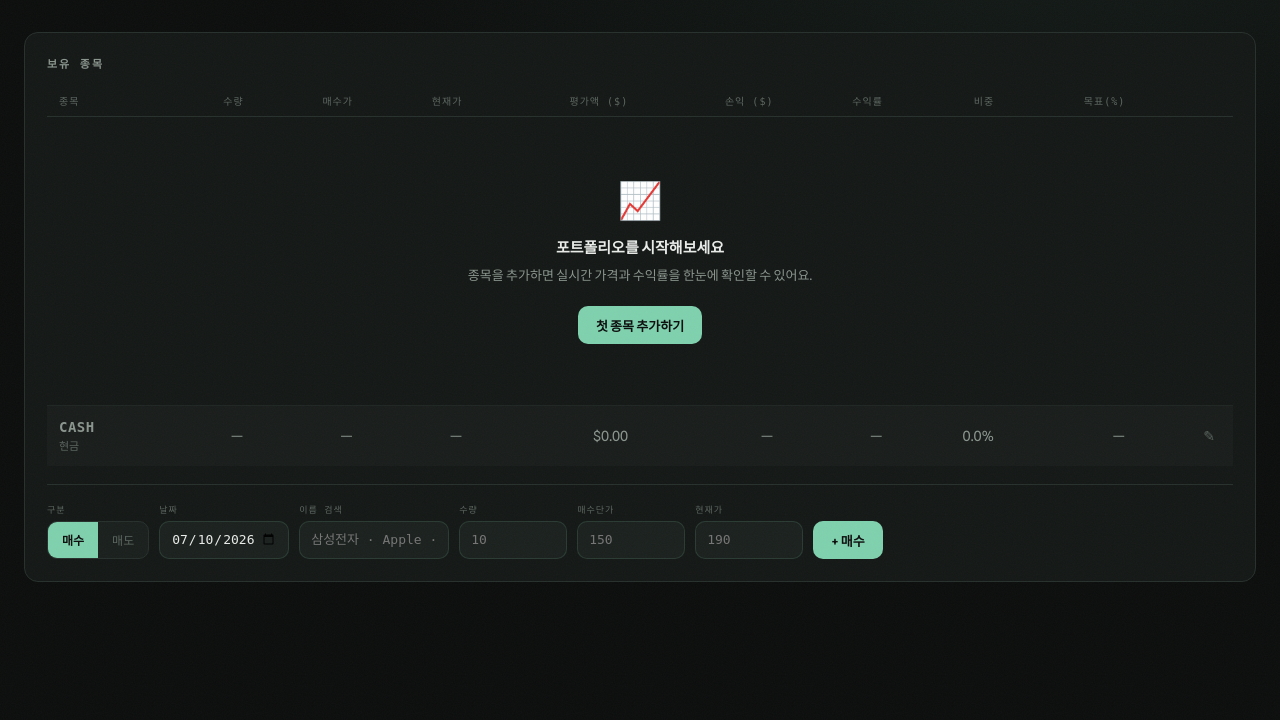
Test case: HoldingsTable › KRW: 드롭다운 선택 시 이름 자동 입력
Type "삼성" into the field with placeholder "삼성전자 · Apple · AAPL · 005930" at (374, 540), box x1=299 y1=521 x2=449 y2=559
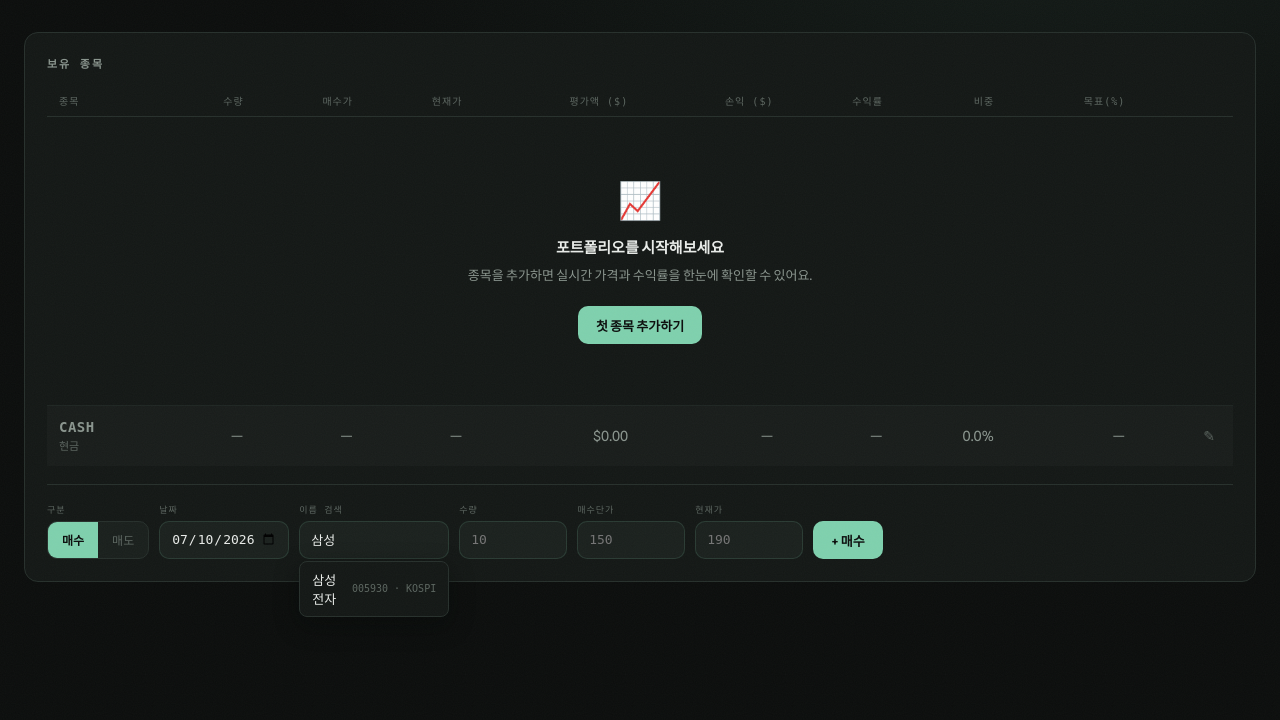
expect the text "삼성전자" is shown: met
Click the text "삼성전자" at (324, 589), box x1=312 y1=572 x2=336 y2=607
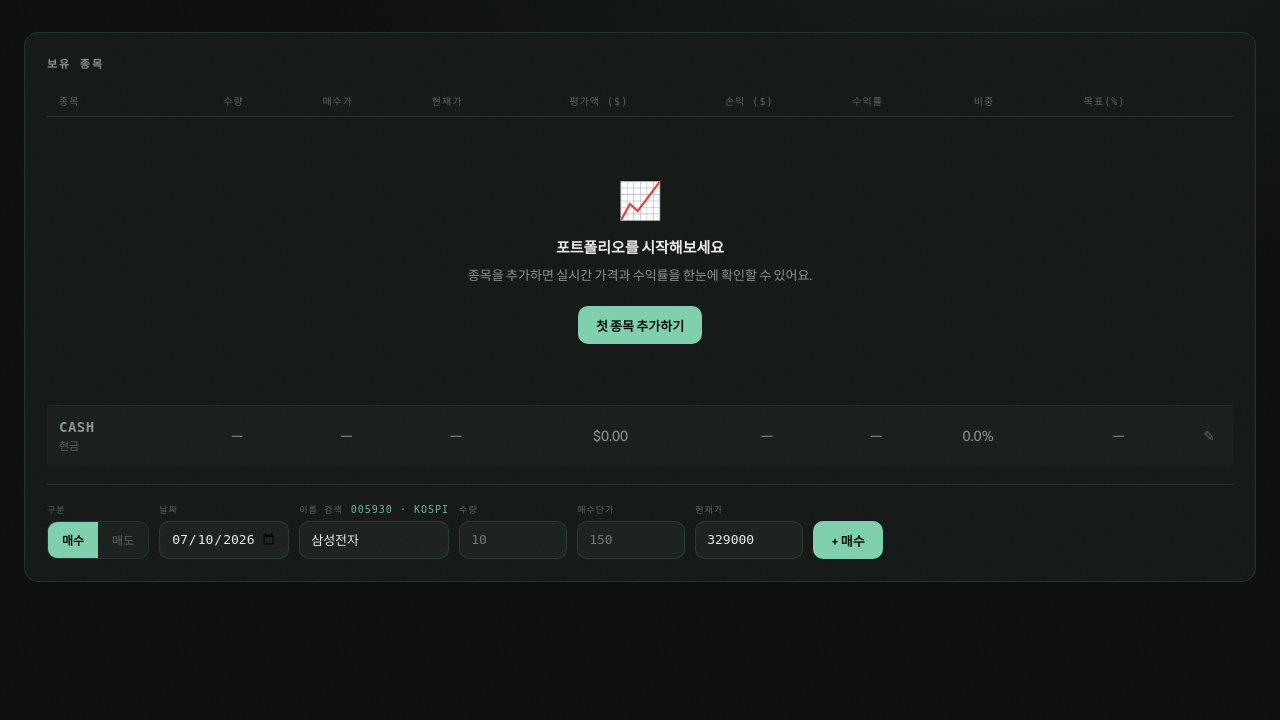
expect the field with placeholder "삼성전자 · Apple · AAPL · 005930" holds "삼성전자": met, box x1=299 y1=521 x2=449 y2=559
